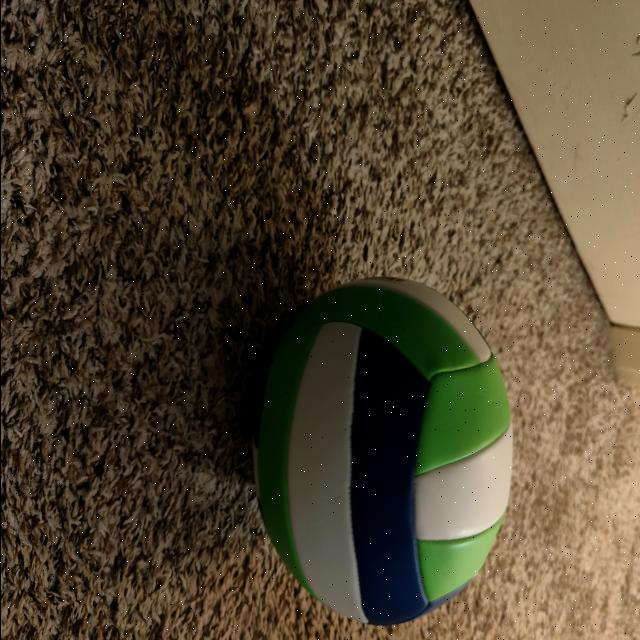ball: (255, 289, 501, 605)
